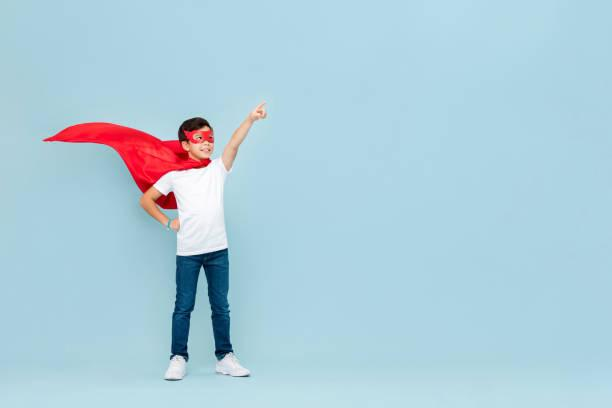Human: (144, 112, 259, 393)
